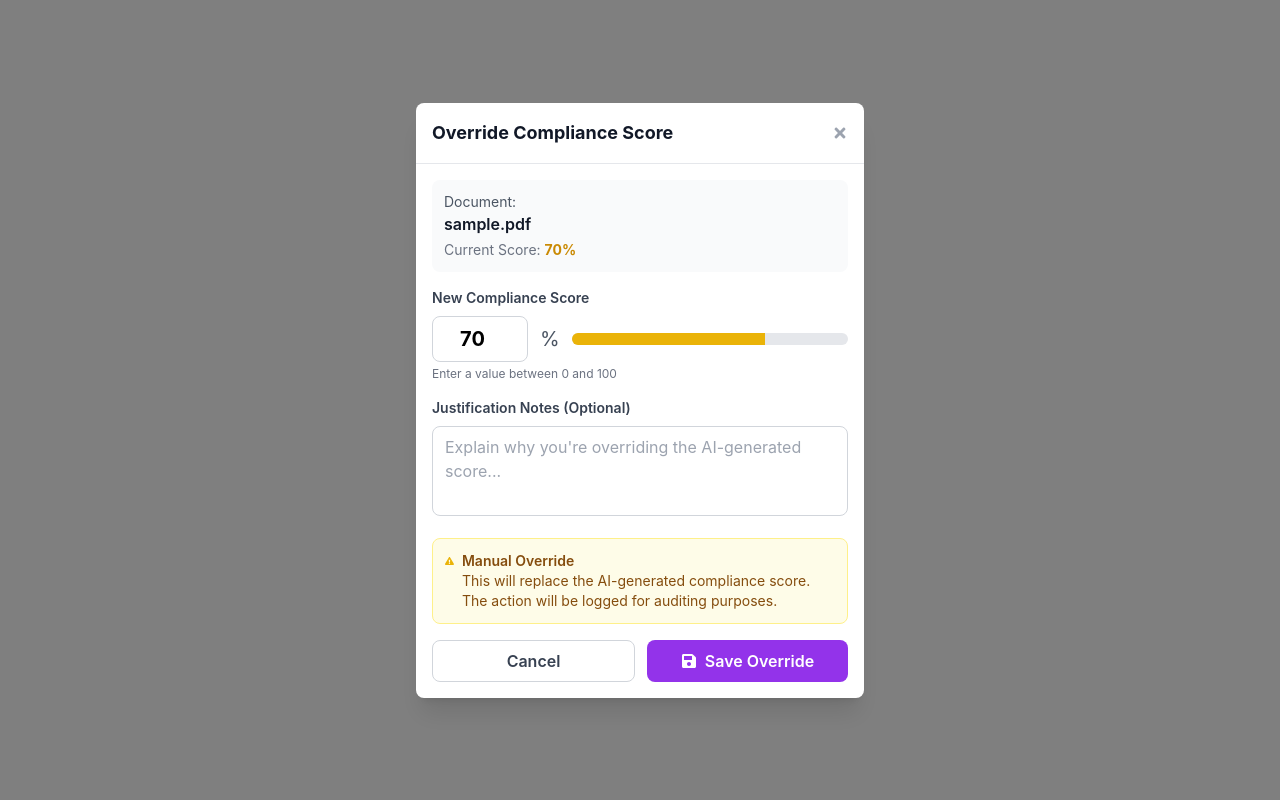
Scenario: shows API error message when override fails
Replace the text in the number field with "50" at (480, 338), box [432,316,528,362]
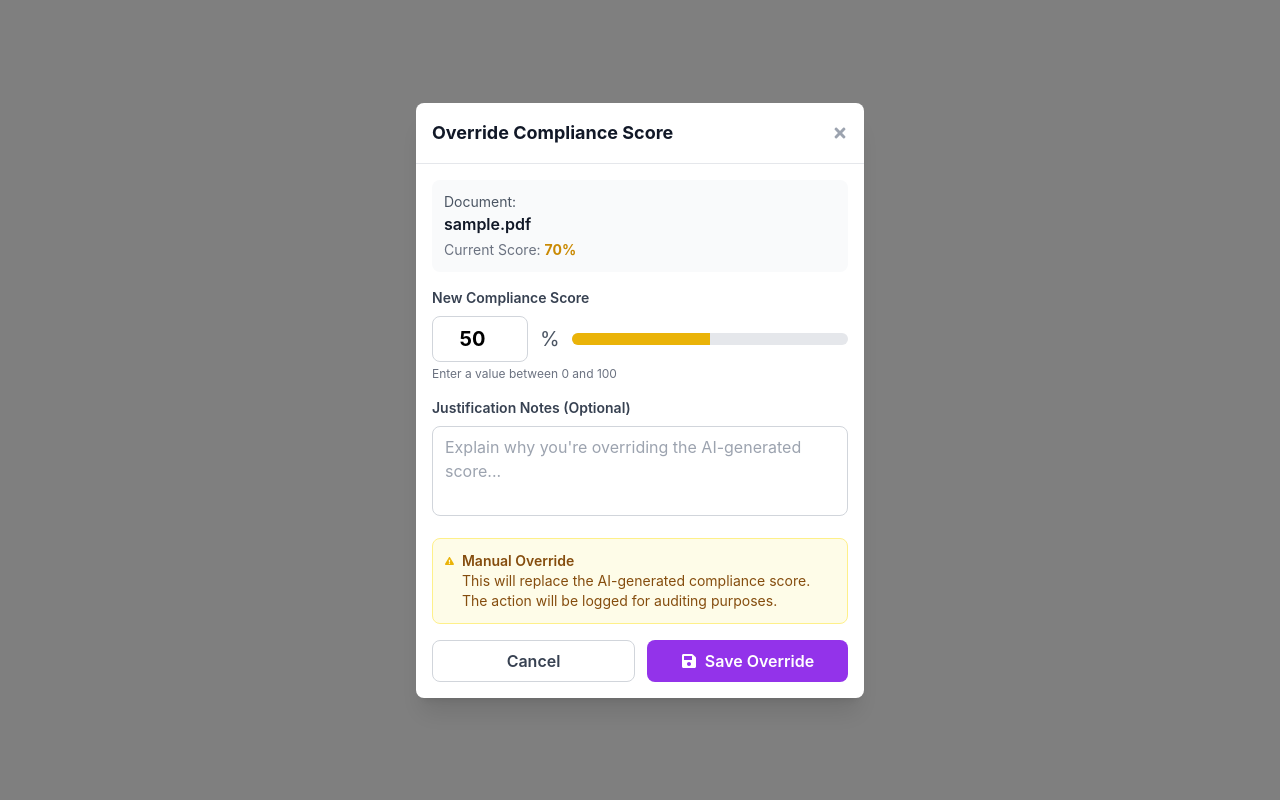
Click the button "Save Override" at (748, 660), box [647,640,848,682]
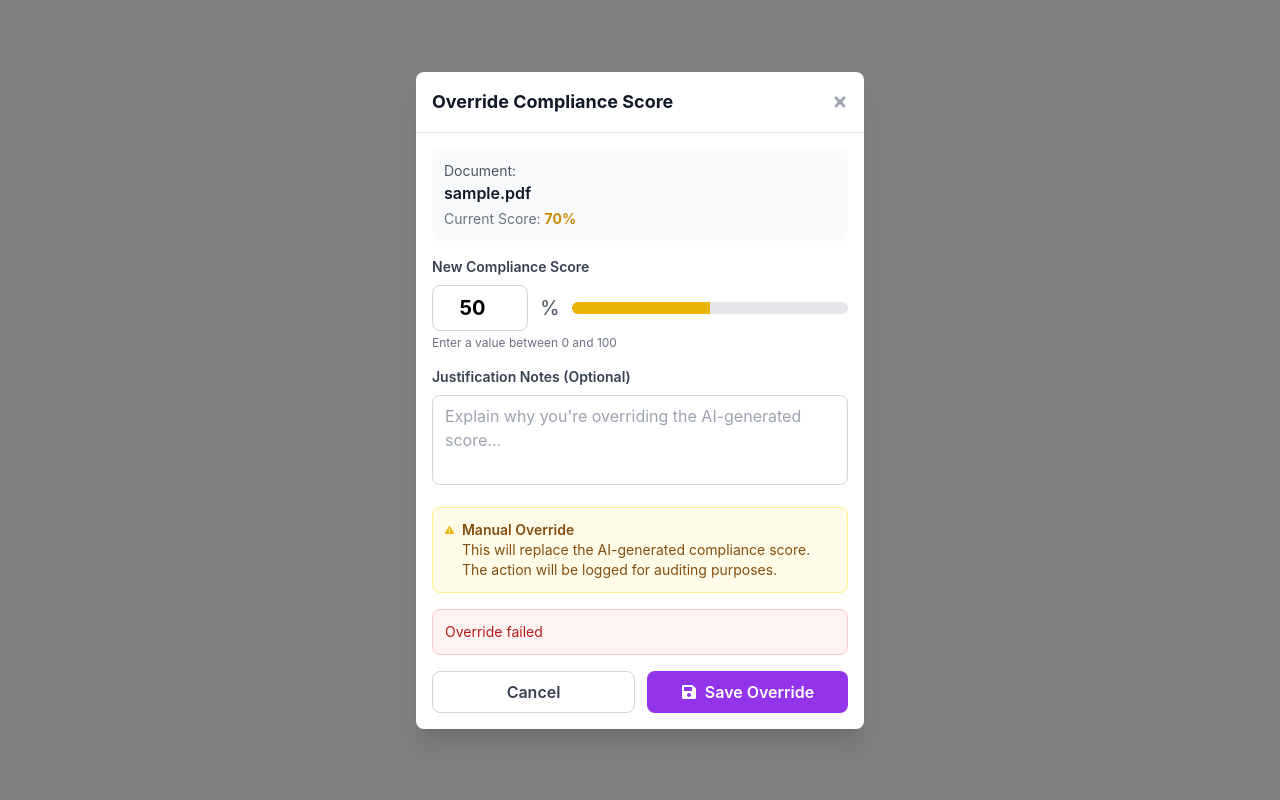
Expected: the text "Override failed" is shown, [432,608,848,654]
